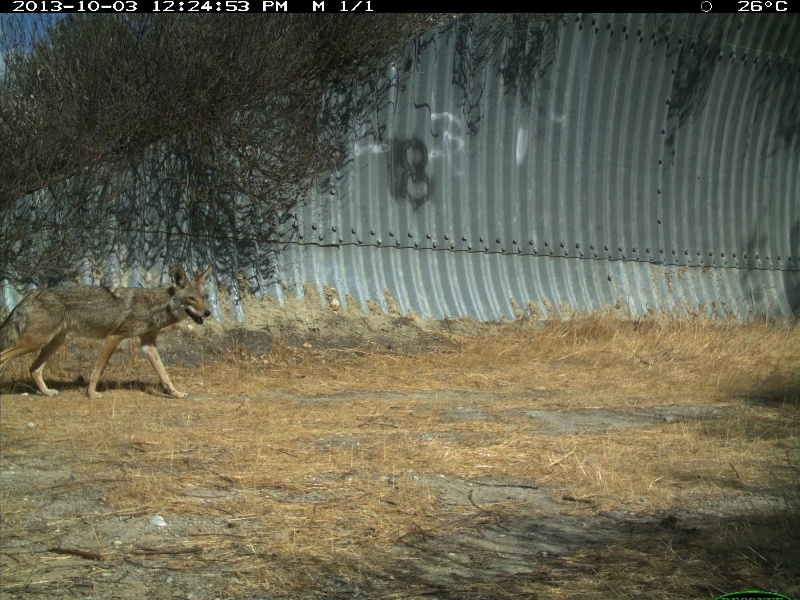coyote: (1, 262, 216, 398)
